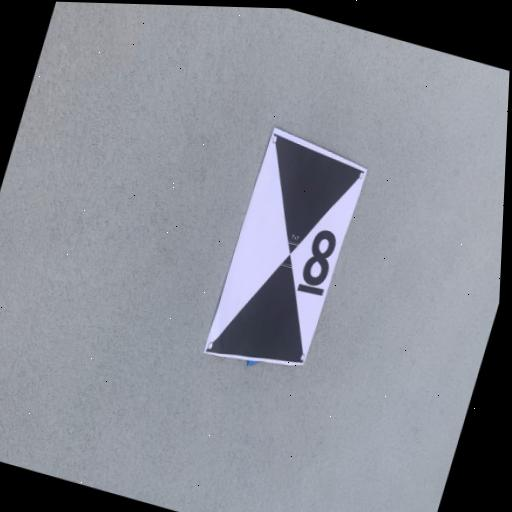target8: (204, 128, 367, 366)
